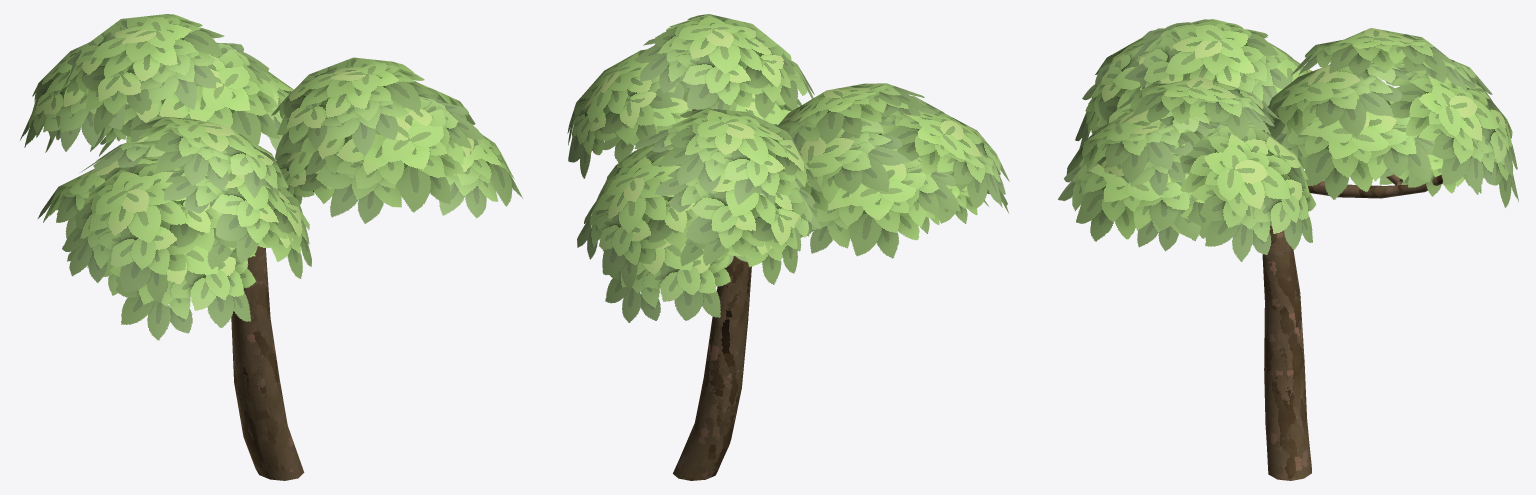
File: tree_tree_2.glb
3 views of the same model, side by side, from view 1: azimuth 30°, elevation 25°; view 2: azimuth 150°, elevation 25°; view 3: azimuth 270°, elevation 25° (orthographic). The views are drawn at different scales.
Parts seen in each view (by area): view 1: Tree_2; view 2: Tree_2; view 3: Tree_2.
Part boxes in pixels (left/top/right/bottom): Tree_2: left=20, top=14, right=522, bottom=480; Tree_2: left=567, top=14, right=1009, bottom=480; Tree_2: left=1058, top=19, right=1518, bottom=480.
Bounding box in the file's own units: 6.51 × 6 × 6.48.
Materials: 2 (2 with a texture image).
